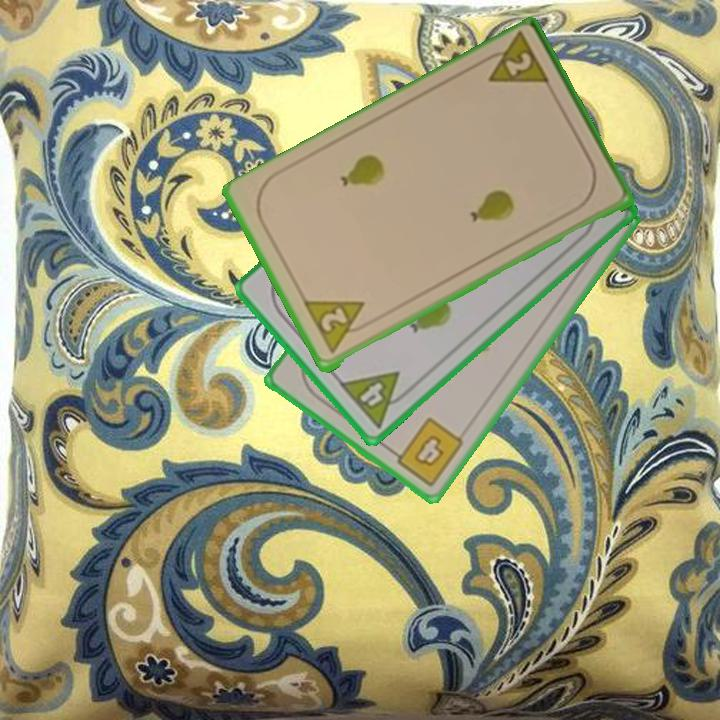2p: (475, 31, 554, 91), (301, 297, 376, 357)
4b: (385, 414, 467, 490)
4p: (336, 368, 416, 431)
